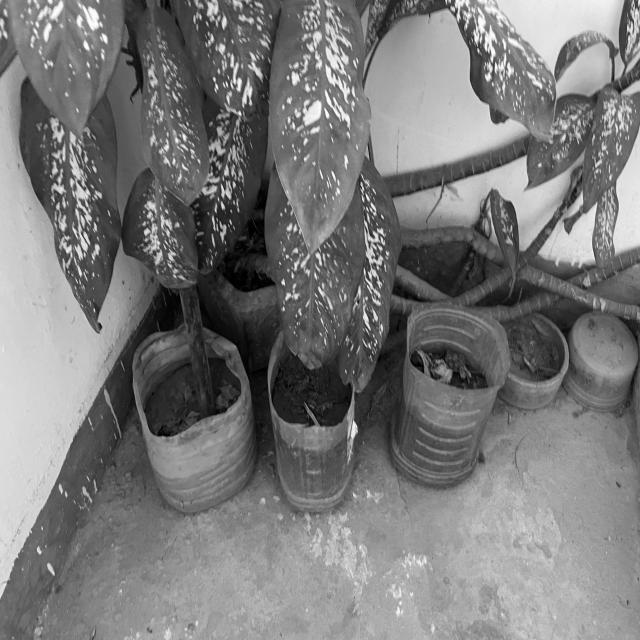Breeding Place: (133, 328, 251, 504), (406, 306, 498, 490), (270, 332, 354, 514), (502, 308, 566, 412), (575, 314, 633, 416)
